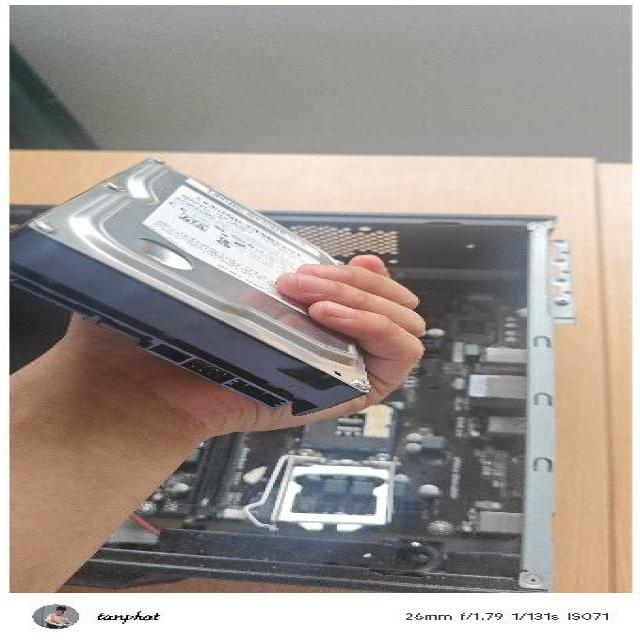DISK: (9, 144, 390, 424)
